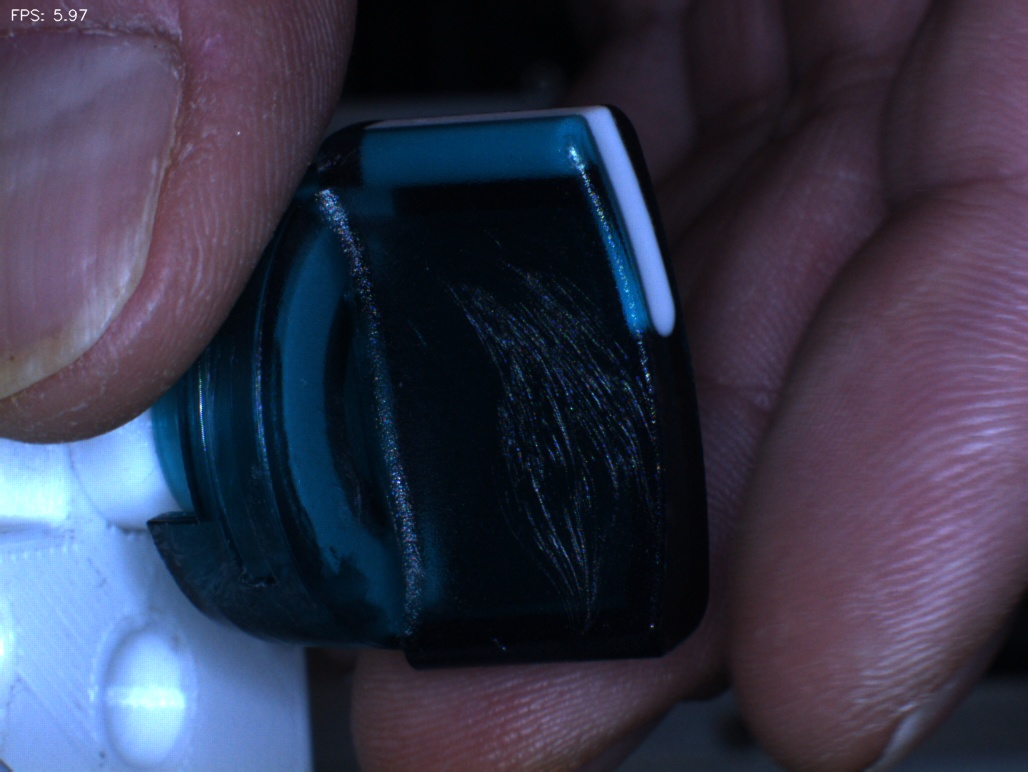Givrage: (455, 254, 654, 643)
